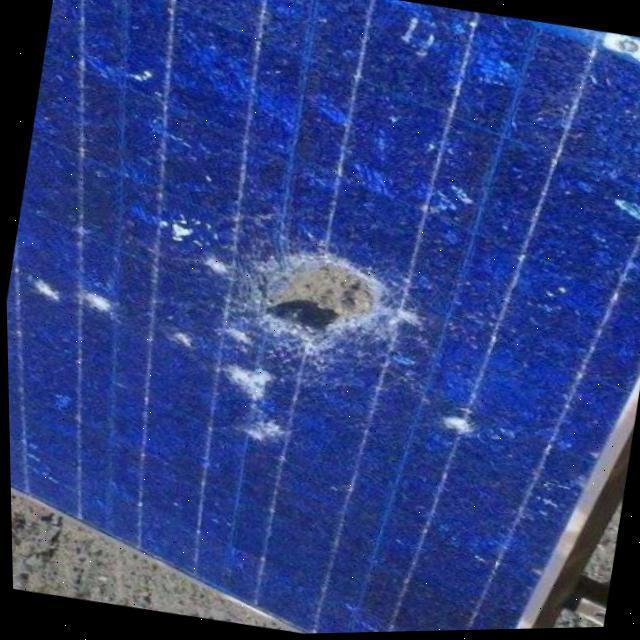Anomaly Solar Panel: (5, 0, 640, 635)
Structural Damage: (38, 174, 522, 488)
